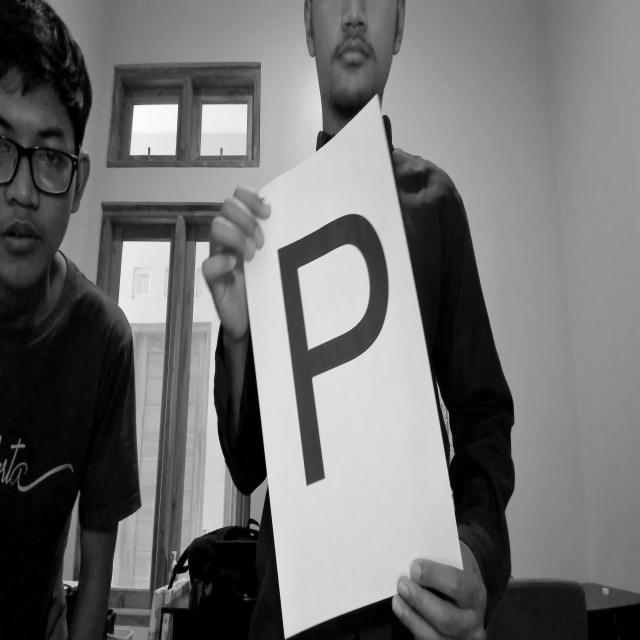p: (265, 193, 406, 520)
